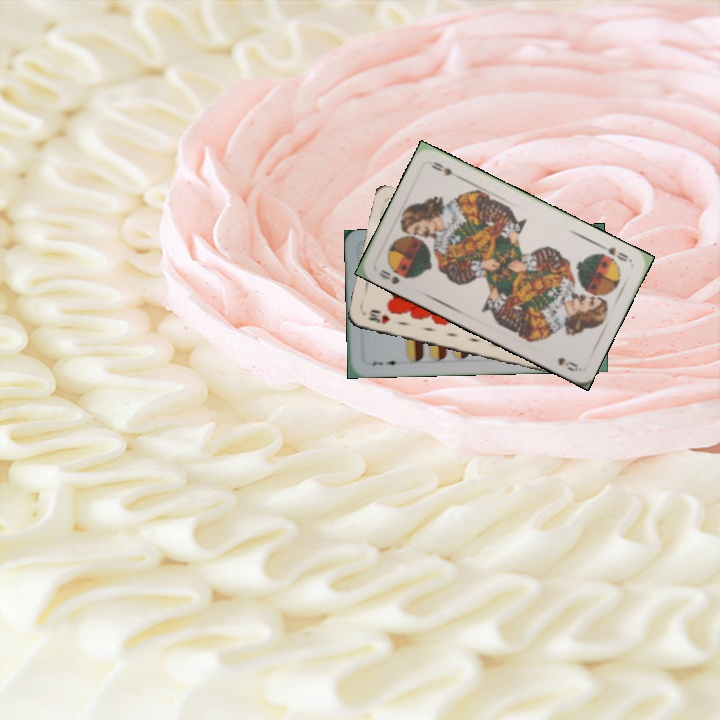E7: (369, 357, 403, 368)
H10: (365, 307, 393, 327)
SO: (596, 240, 631, 264), (374, 265, 403, 287)
